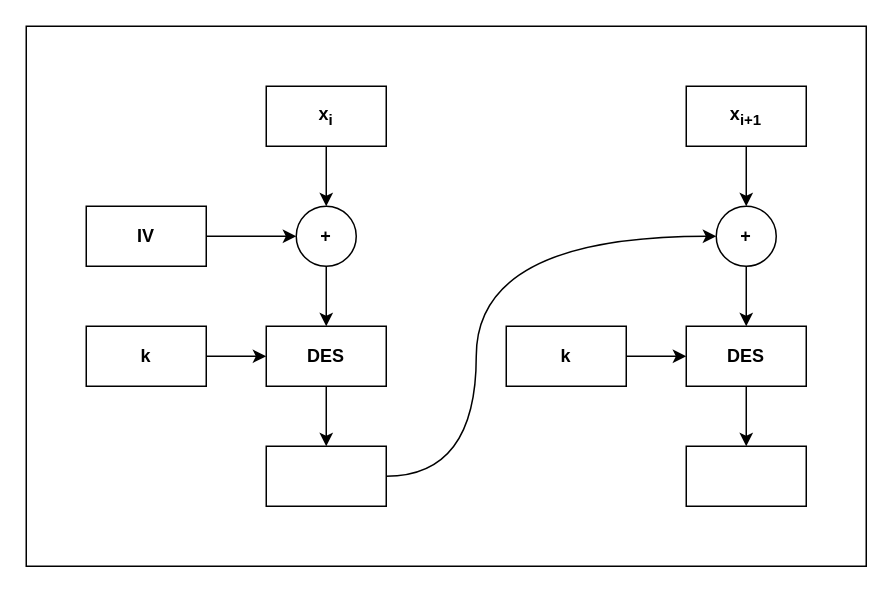
The diagram is 893 pixels wide and 593 high, and some of its shapes have lost their labels. The shapes that lost their labels are listed below. From the top down, each one's centre as x and y in pixels, then its label:
At [325,475]: "y i".
At [745,475]: "y i+1".
